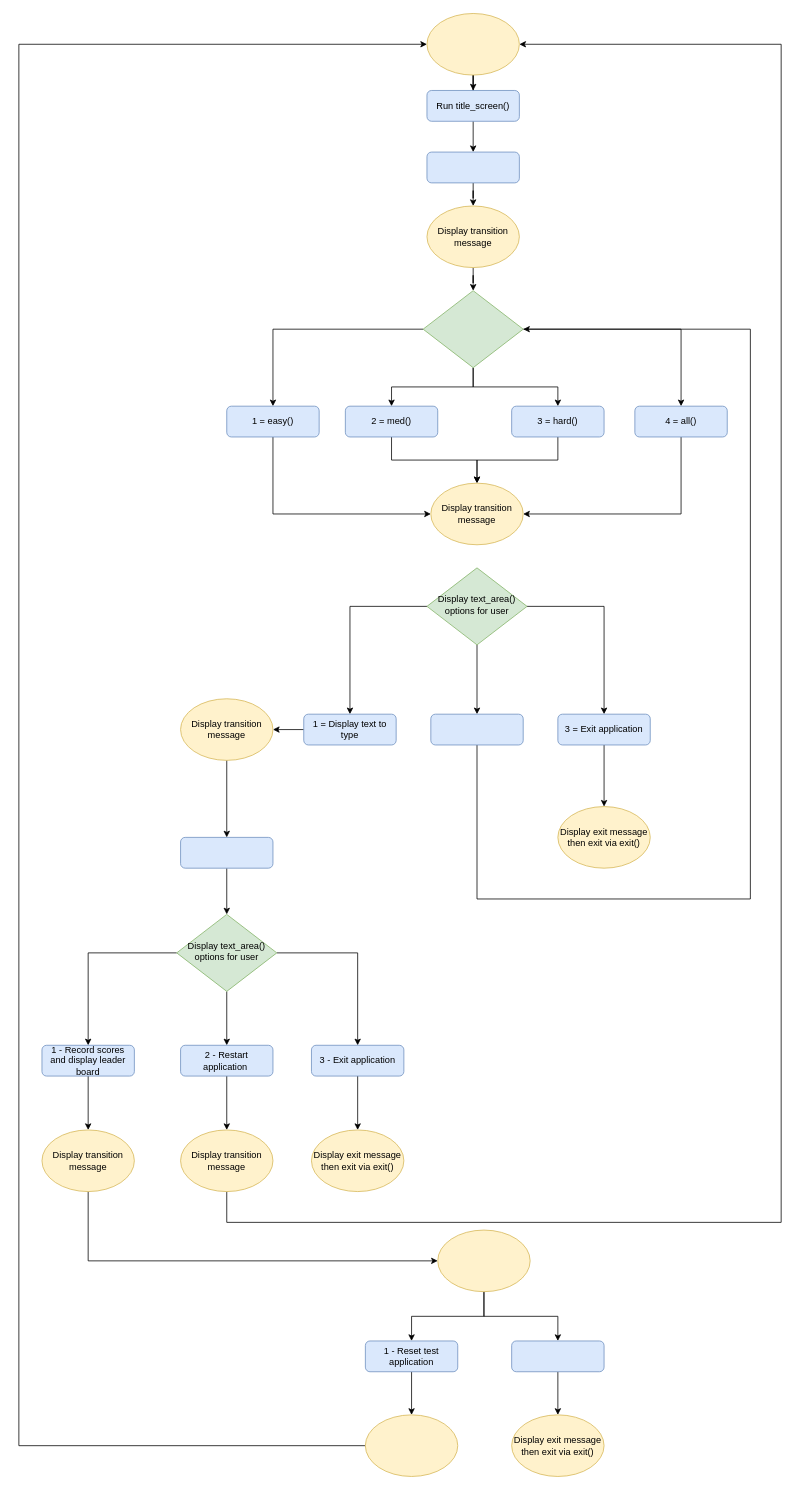
Some shapes in this 801 by 1490 pixel diagram are drawn without their labels. The box of each missing label's shape, as (x1, y1, x2, y2) in pixels:
2 - Exit application: (511, 1340, 604, 1372)
2 = Select other difficulty: (430, 713, 523, 745)
Ask user for name with get_name(): (426, 151, 519, 183)
Display difficulty options calling difficulty_select(): (422, 290, 523, 368)
Display Leader board & options for user: (437, 1229, 530, 1292)
Display transition message then reset using restart_exit(): (365, 1414, 458, 1476)
Initiate Application from __main__ (start_test()): (426, 13, 519, 75)
Text appears and timer begins while user is typing: (180, 837, 273, 868)
